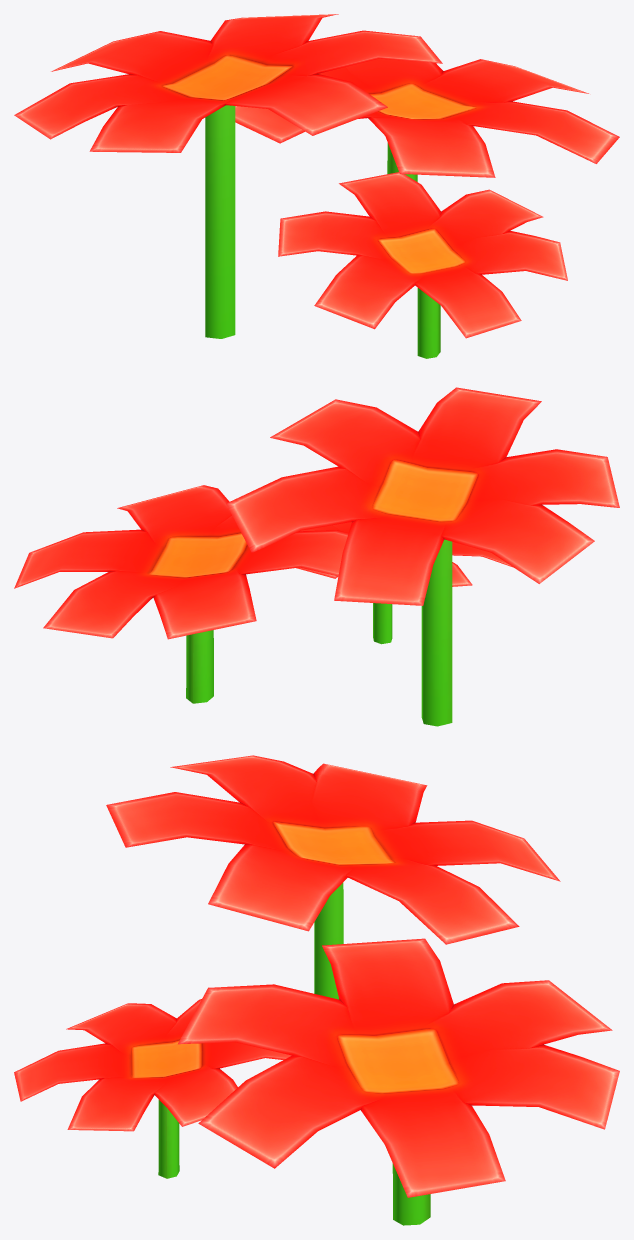
The model's file is SM_Flower_01_B.glb.
3 renders of one model, top to bottom at view 1: azimuth 30°, elevation 25°; view 2: azimuth 150°, elevation 25°; view 3: azimuth 270°, elevation 25°, orthographic. The views are drawn at different scales.
Visible parts, largest first — view 1: SM_Flower_01_B; view 2: SM_Flower_01_B; view 3: SM_Flower_01_B.
Boxes of the visible parts, x1,y1,x2,y2 form: SM_Flower_01_B: [14, 14, 619, 358]; SM_Flower_01_B: [14, 387, 619, 726]; SM_Flower_01_B: [14, 755, 619, 1225].
Size of the model in its own units: 0.3991 by 0.1865 by 0.3395.
Materials: 1 (1 with a texture image).
